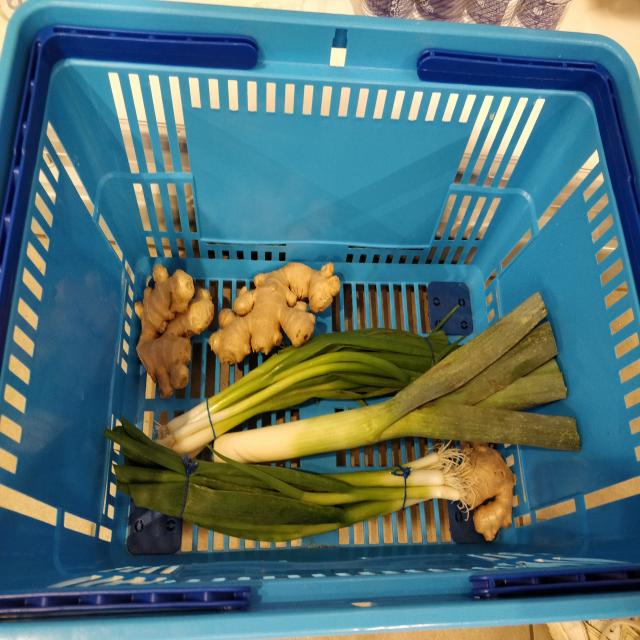Ginger: (208, 262, 341, 364), (134, 264, 215, 398)
Leek: (212, 294, 581, 464)
Spring Onion: (103, 419, 461, 527), (156, 328, 451, 457)
